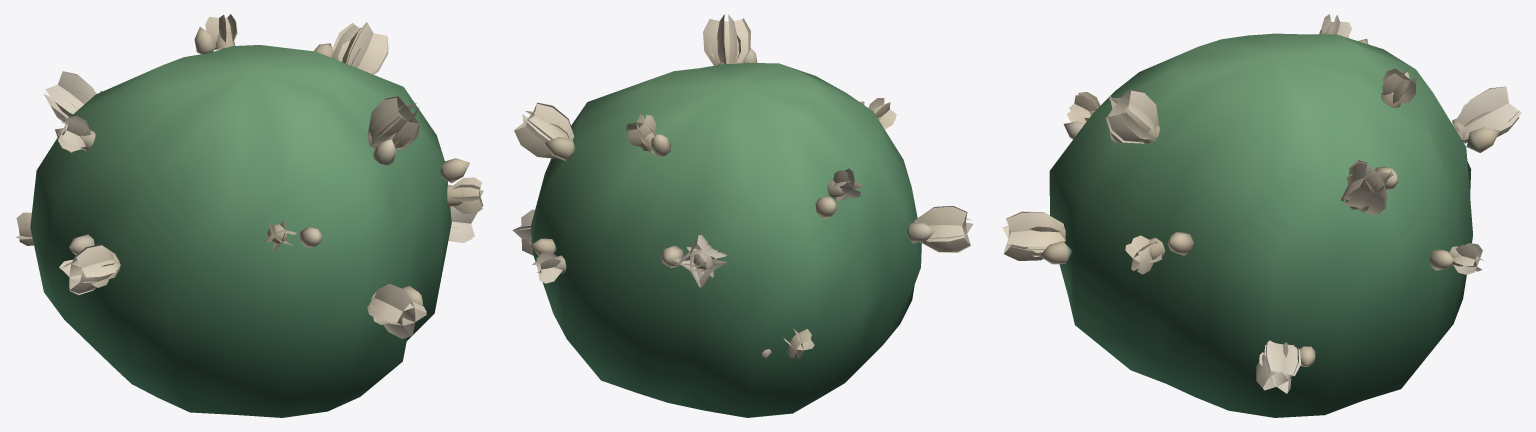
The model's file is rose_cream.glb.
3 renders of one model, left to right at view 1: azimuth 30°, elevation 25°; view 2: azimuth 150°, elevation 25°; view 3: azimuth 270°, elevation 25°, orthographic. The views are drawn at different scales.
Visible parts, largest first — view 1: rose_cream; view 2: rose_cream; view 3: rose_cream.
Boxes of the visible parts, x1,y1,x2,y2 form: rose_cream: (15,14,483,417); rose_cream: (512,14,973,417); rose_cream: (1002,14,1521,417).
Size of what is drawn, in the model's own units: 1.84 by 1.15 by 1.81.
